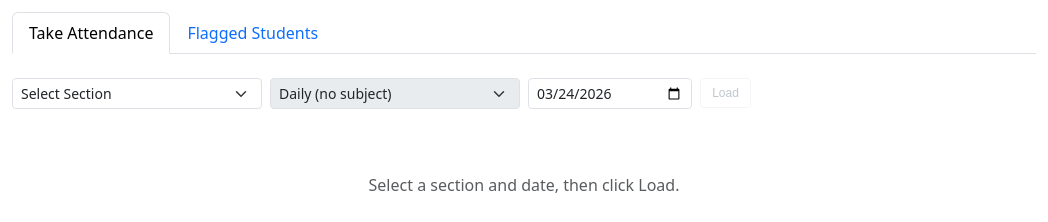
Test: AttendancePage › flagged students › shows error message when flagged route returns 404
Click the button with class "nav-link" showing "Flagged Students". click: click(253, 33)
box: [170,12,335,54]
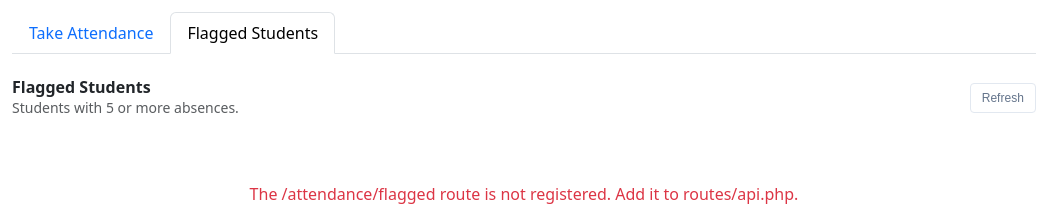
Now the text "not registered" is shown, box [250,183,798,205]
